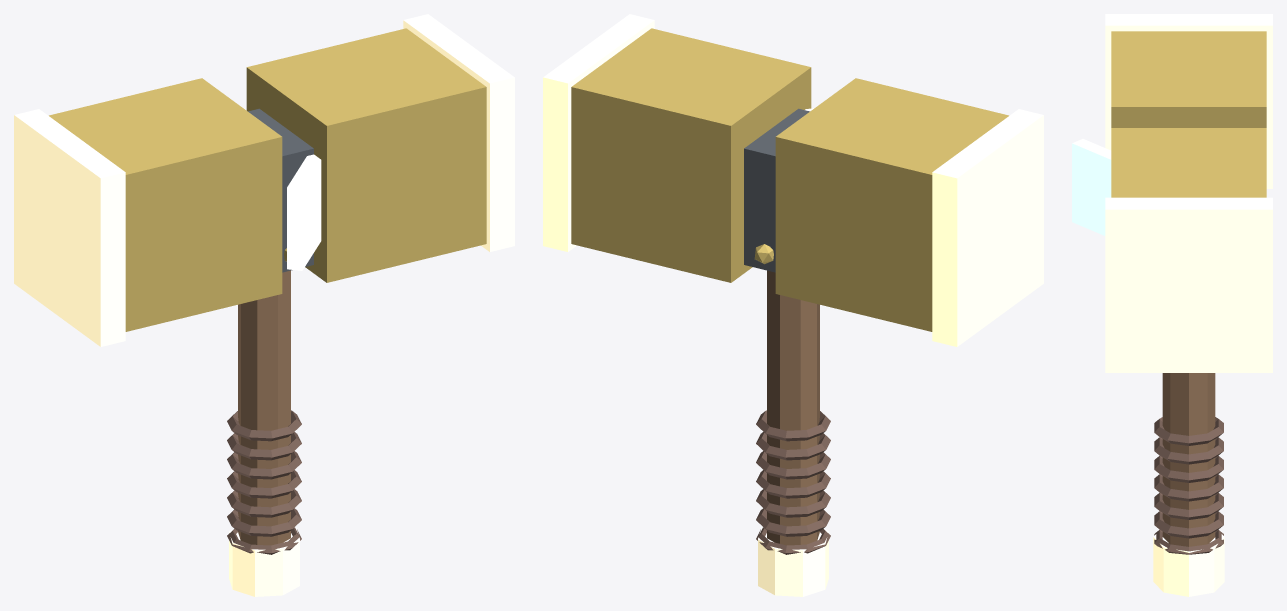
File: golden_double_headed_hammer.glb
The picture shows the model from 3 angles, left to right: view 1: azimuth 30°, elevation 25°; view 2: azimuth 150°, elevation 25°; view 3: azimuth 270°, elevation 25°; orthographic projection. The views are drawn at different scales.
Parts seen in each view (by area): view 1: HammerFace_1.001, HammerFace_-1.001, StrikingPlate_-1.001, ReinforcedHaft.001, StrikingPlate_1.001, TopRune.001, PommelBand.001, HammerNeck.001, GripWrap_6.001, GripWrap_2.009, GripWrap_1.009, GripWrap_4.009 (+3 smaller); view 2: HammerFace_1.001, HammerFace_-1.001, StrikingPlate_-1.001, ReinforcedHaft.001, StrikingPlate_1.001, HammerNeck.001, PommelBand.001, GripWrap_6.001, GripWrap_2.009, GripWrap_1.009, GripWrap_4.009, GripWrap_3.009 (+2 smaller); view 3: StrikingPlate_1.001, HammerFace_-1.001, HammerFace_1.001, ReinforcedHaft.001, StrikingPlate_-1.001, TopRune.001, PommelBand.001, GripWrap_6.001, GripWrap_1.009, GripWrap_2.009, GripWrap_3.009, GripWrap_4.009 (+2 smaller).
Part boxes in pixels (x1,y1,x2,y2): HammerFace_1.001: [246, 28, 486, 282]; HammerFace_-1.001: [49, 78, 282, 331]; StrikingPlate_-1.001: [14, 109, 125, 346]; ReinforcedHaft.001: [238, 270, 290, 545]; StrikingPlate_1.001: [403, 14, 514, 251]; TopRune.001: [287, 154, 321, 270]; PommelBand.001: [229, 527, 299, 596]; HammerNeck.001: [248, 108, 313, 272]; GripWrap_6.001: [227, 410, 301, 441]; GripWrap_2.009: [227, 489, 301, 517]; GripWrap_1.009: [227, 508, 301, 536]; GripWrap_4.009: [227, 451, 301, 479]; HammerFace_1.001: [571, 28, 811, 282]; HammerFace_-1.001: [775, 78, 1008, 331]; StrikingPlate_-1.001: [932, 109, 1043, 346]; ReinforcedHaft.001: [767, 270, 819, 545]; StrikingPlate_1.001: [543, 14, 654, 251]; HammerNeck.001: [744, 108, 809, 272]; PommelBand.001: [758, 527, 828, 596]; GripWrap_6.001: [756, 410, 830, 441]; GripWrap_2.009: [756, 489, 830, 517]; GripWrap_1.009: [756, 508, 830, 536]; GripWrap_4.009: [756, 451, 830, 479]; GripWrap_3.009: [756, 470, 830, 498]; StrikingPlate_1.001: [1105, 197, 1272, 372]; HammerFace_-1.001: [1111, 31, 1266, 127]; HammerFace_1.001: [1111, 128, 1266, 197]; ReinforcedHaft.001: [1162, 373, 1215, 546]; StrikingPlate_-1.001: [1105, 14, 1272, 188]; TopRune.001: [1072, 139, 1111, 235]; PommelBand.001: [1153, 534, 1224, 596]; GripWrap_6.001: [1154, 417, 1223, 445]; GripWrap_1.009: [1154, 511, 1223, 538]; GripWrap_2.009: [1154, 492, 1223, 519]; GripWrap_3.009: [1154, 474, 1223, 501]; GripWrap_4.009: [1154, 455, 1223, 482].
Bounding box in the file's own units: 1.49 × 1.67 × 0.6467.
